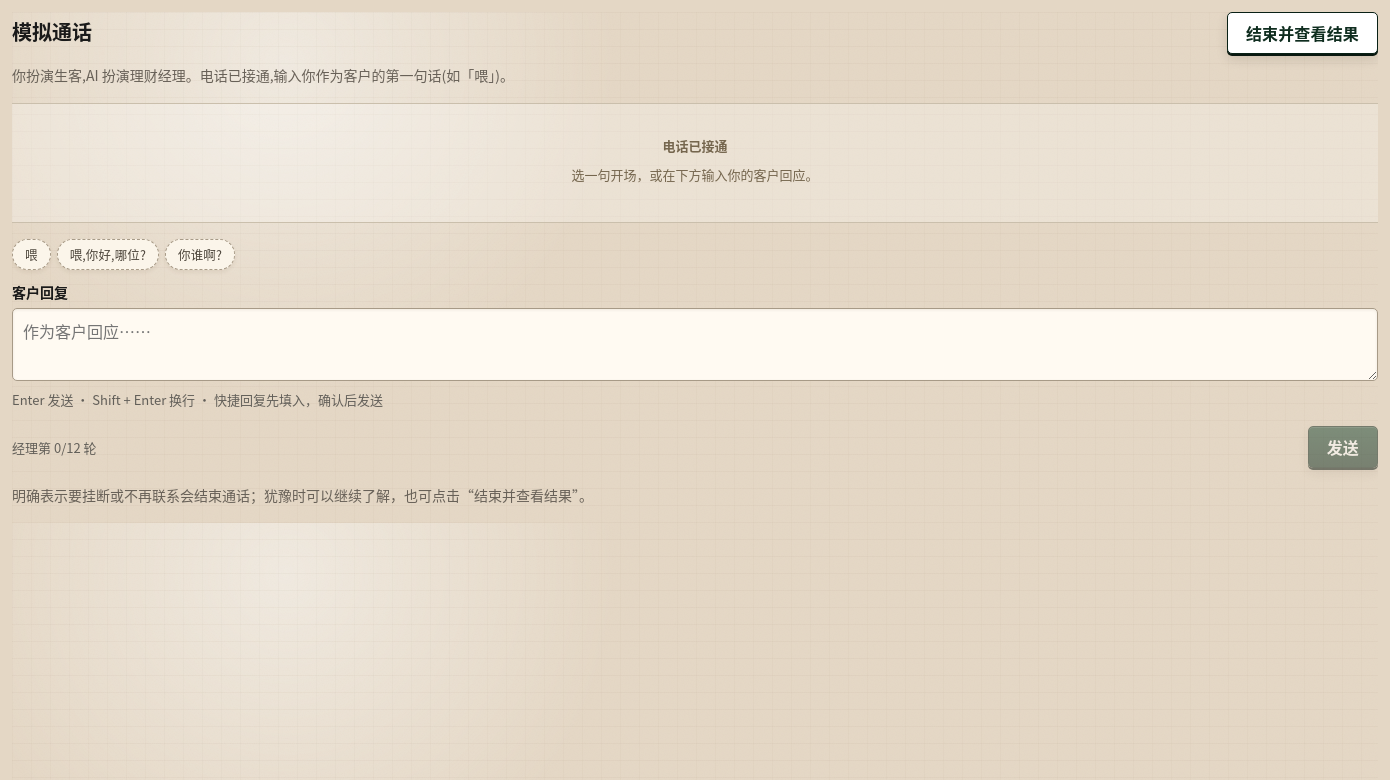
Scenario: 对话步骤的反馈 › 请求失败时回滚:客户话撤下、草稿恢复、显示错误
The image size is (1390, 780).
Type "喂" into the text box labelled "客户回复".
click(695, 345); type("喂")  # box [12, 308, 1378, 381]
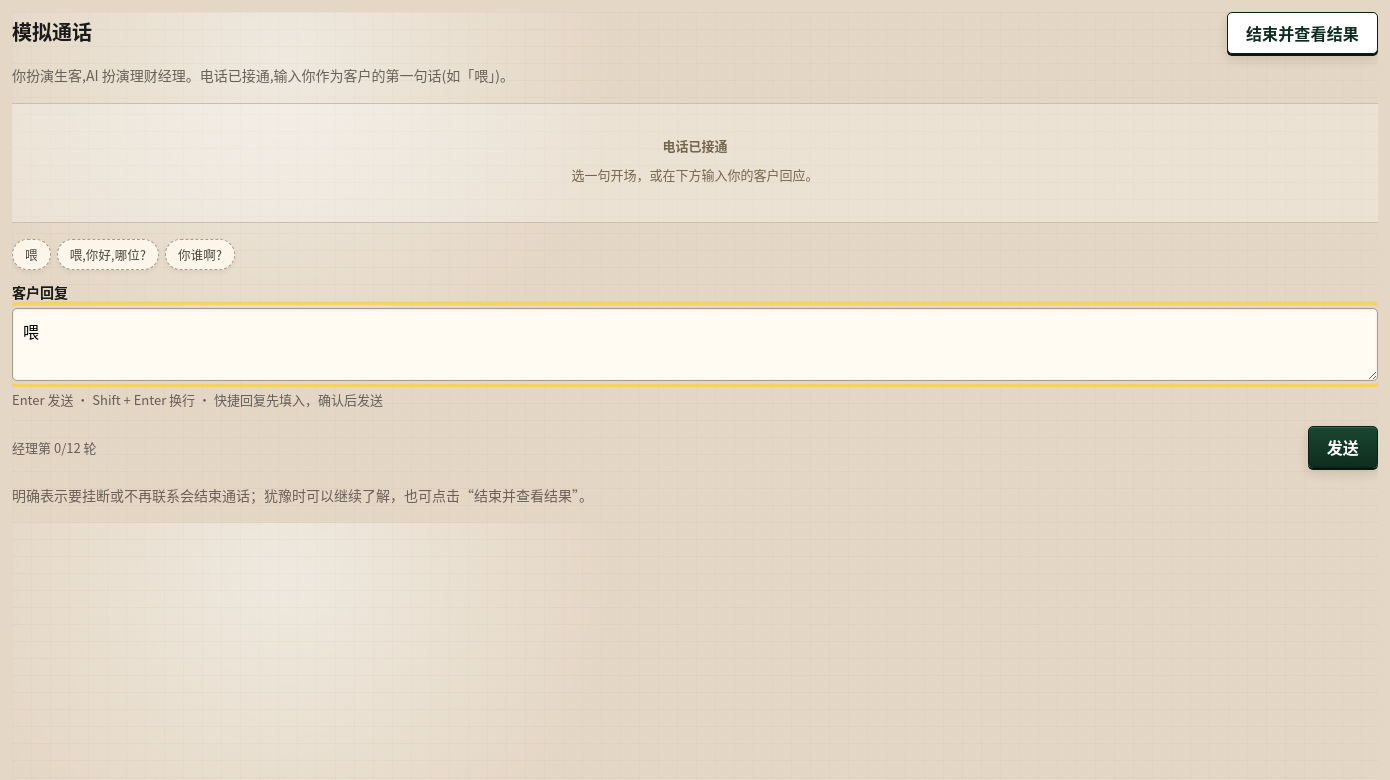
Click the button "发送".
click(1343, 447)  # box [1308, 426, 1378, 468]
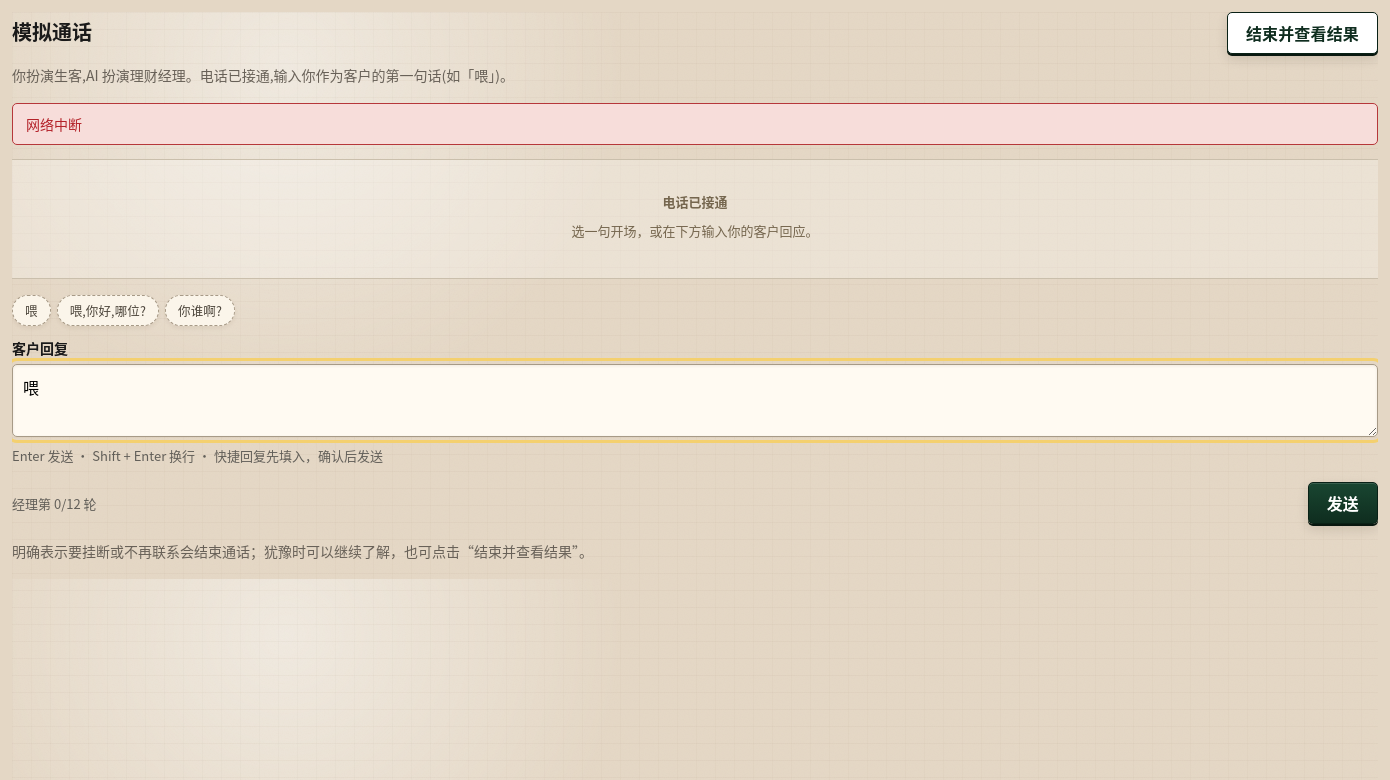
Now the message reads "网络中断", box [26, 114, 82, 134]
